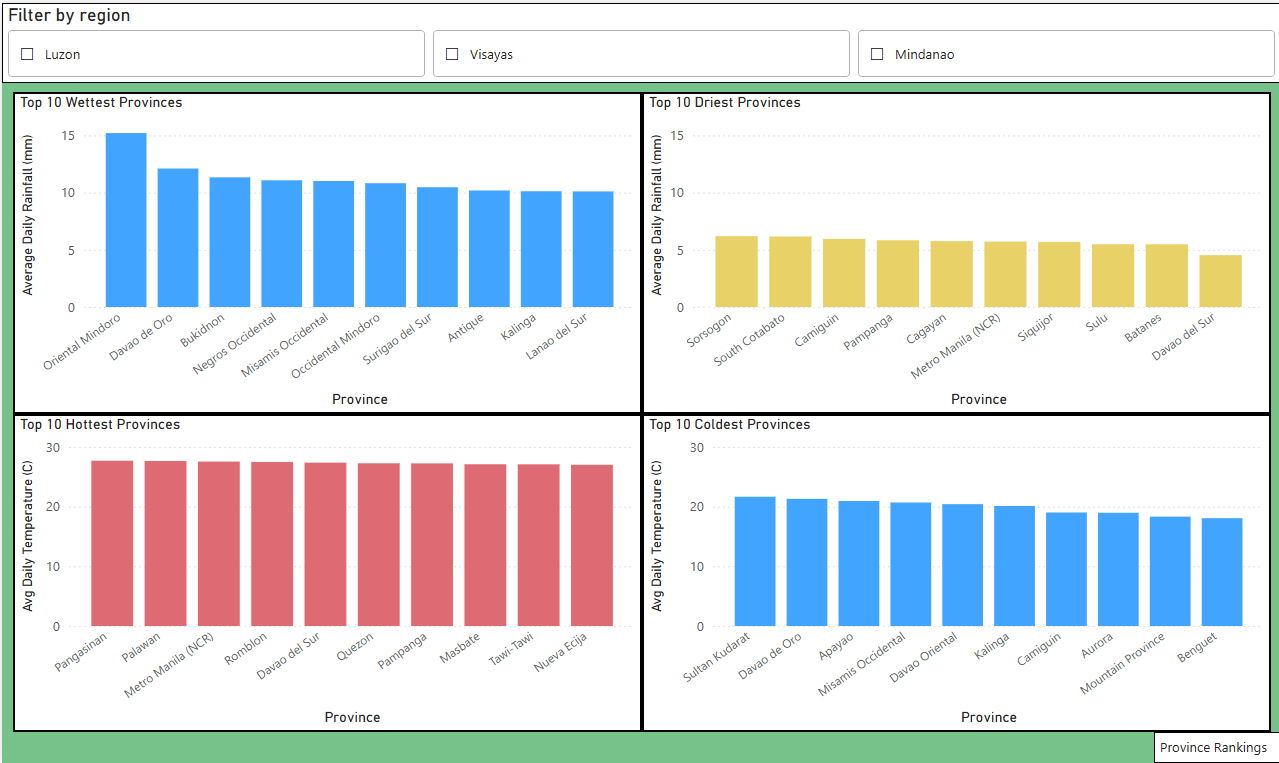

What the dashboard file says about the page in this screenshot:
{"tool":"powerbi","page":{"name":"Province Rankings","canvas":[1280,760],"ordinal":1},"visuals":[{"type":"advancedSlicerVisual","title":"Filter by region","fields":{"Values":["mart_province_climate_summary.region"]},"box":[0,0,1280,80],"z":0},{"type":"clusteredColumnChart","title":"Top 10 Wettest Provinces","fields":{"Category":["mart_province_climate_summary.province"],"Y":["Sum(mart_province_climate_summary.avg_daily_rain)"]},"box":[11,89,629,322],"z":0,"group":"g1"},{"type":"group","id":"g1","title":"Group 1","box":[11,89,1258,640],"z":1000},{"type":"clusteredColumnChart","title":"Top 10 Driest Provinces","fields":{"Category":["mart_province_climate_summary.province"],"Y":["Sum(mart_province_climate_summary.avg_daily_rain)"]},"box":[640,89,629,322],"z":1000,"group":"g1"},{"type":"textbox","box":[1152,729,128,31],"z":1001},{"type":"clusteredColumnChart","title":"Top 10 Hottest Provinces","fields":{"Category":["mart_province_climate_summary.province"],"Y":["Sum(mart_province_climate_summary.avg_daily_temp)"]},"box":[11,411,629,318],"z":2000,"group":"g1"},{"type":"clusteredColumnChart","title":"Top 10 Coldest Provinces","fields":{"Category":["mart_province_climate_summary.province"],"Y":["Sum(mart_province_climate_summary.avg_daily_temp)"]},"box":[640,411,629,318],"z":3000,"group":"g1"}]}

Visuals, with their boxes in screenshot pixels (x1, y1, x2, y2), scaled from the page's 1280x760 canvas onto the 1279x763 screenshot:
"Filter by region" advancedSlicerVisual: Rect(0, 0, 1278, 80)
"Top 10 Wettest Provinces" clusteredColumnChart: Rect(11, 89, 640, 413)
"Group 1" group: Rect(11, 89, 1268, 732)
"Top 10 Driest Provinces" clusteredColumnChart: Rect(640, 89, 1268, 413)
textbox: Rect(1151, 732, 1278, 762)
"Top 10 Hottest Provinces" clusteredColumnChart: Rect(11, 413, 640, 732)
"Top 10 Coldest Provinces" clusteredColumnChart: Rect(640, 413, 1268, 732)
